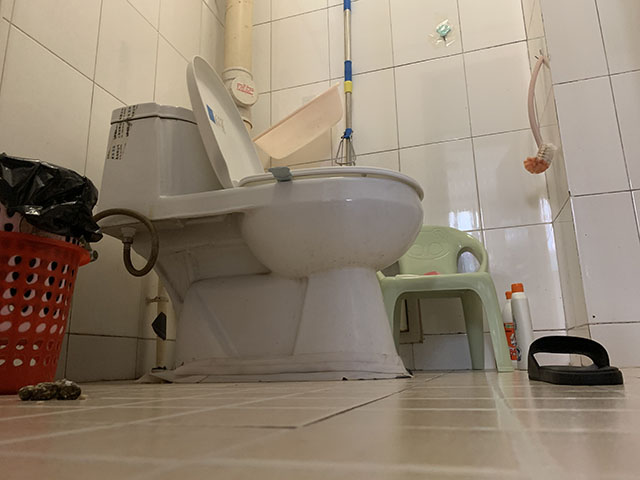closestool: (97, 54, 426, 386)
feces: (16, 378, 84, 401)
slippers: (526, 334, 625, 387)
stool: (376, 225, 508, 375)
trashcan: (1, 148, 104, 396)
